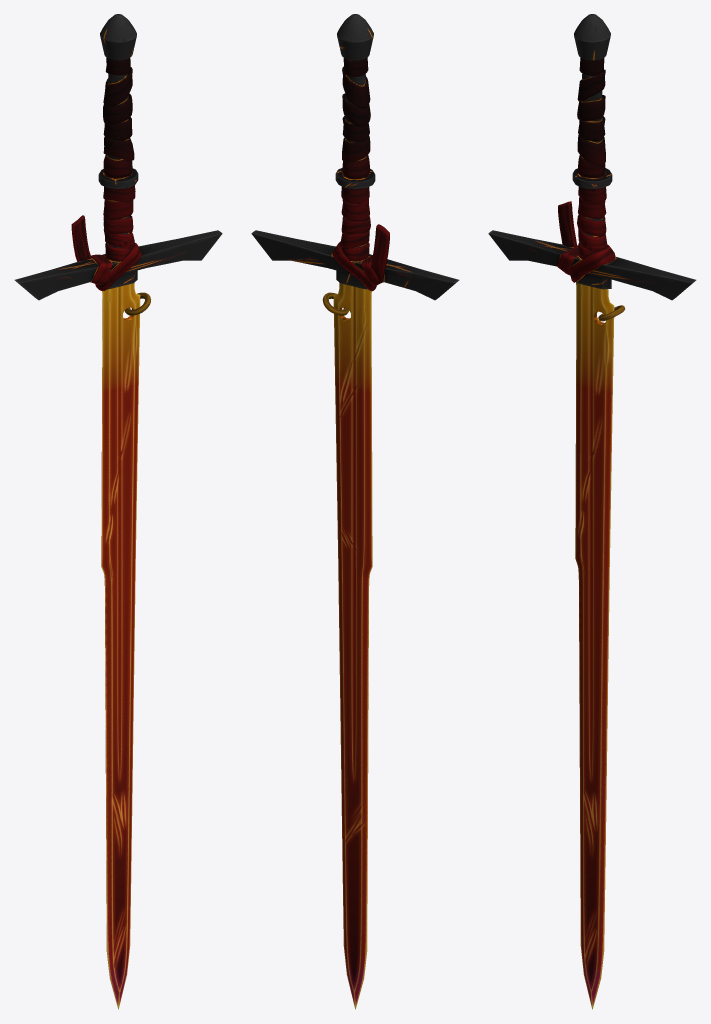
The model's file is sword.obj.
3 renders of one model, left to right at view 1: azimuth 30°, elevation 25°; view 2: azimuth 150°, elevation 25°; view 3: azimuth 330°, elevation 25°, orthographic.
Visible parts, largest first — view 1: Sword_low; view 2: Sword_low; view 3: Sword_low.
Boxes of the visible parts, left/top/right/bottom form: Sword_low: left=14, top=14, right=222, bottom=1009; Sword_low: left=251, top=14, right=459, bottom=1009; Sword_low: left=488, top=14, right=696, bottom=1009.
Size of the model in its own units: 1.14 by 5.33 by 0.1934.
1 material, 1 textured.
